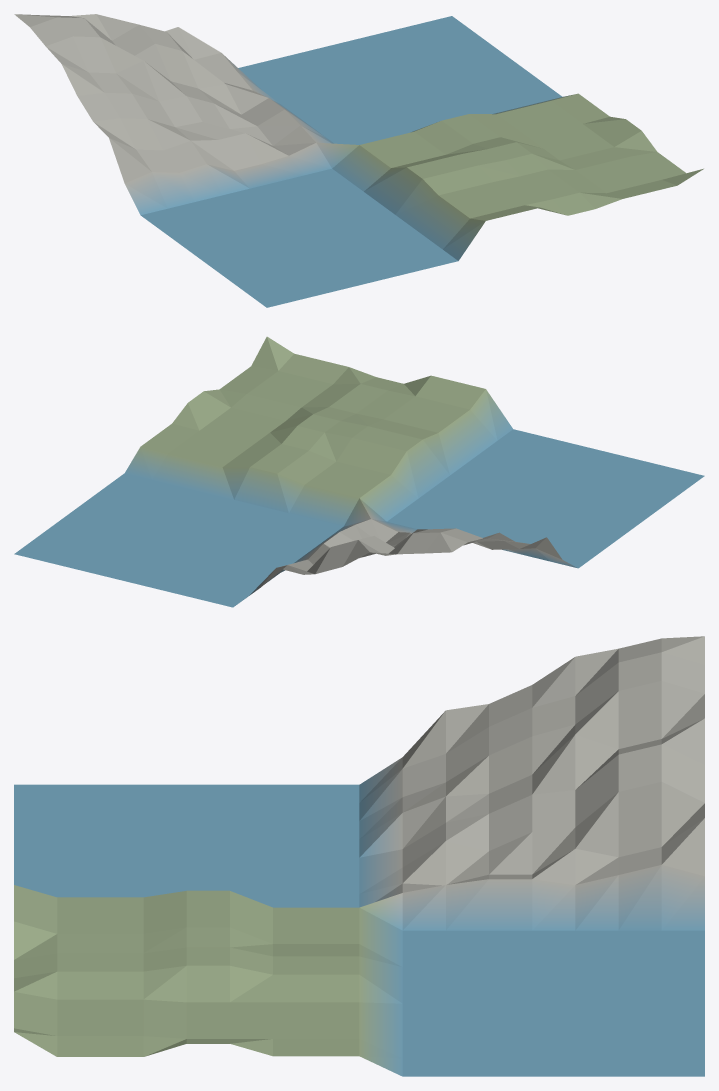
3 views of the same model, one above another, from view 1: azimuth 30°, elevation 25°; view 2: azimuth 150°, elevation 25°; view 3: azimuth 270°, elevation 25° (orthographic). The views are drawn at different scales.
Size of the model in its own units: 32 by 7.7 by 32.
